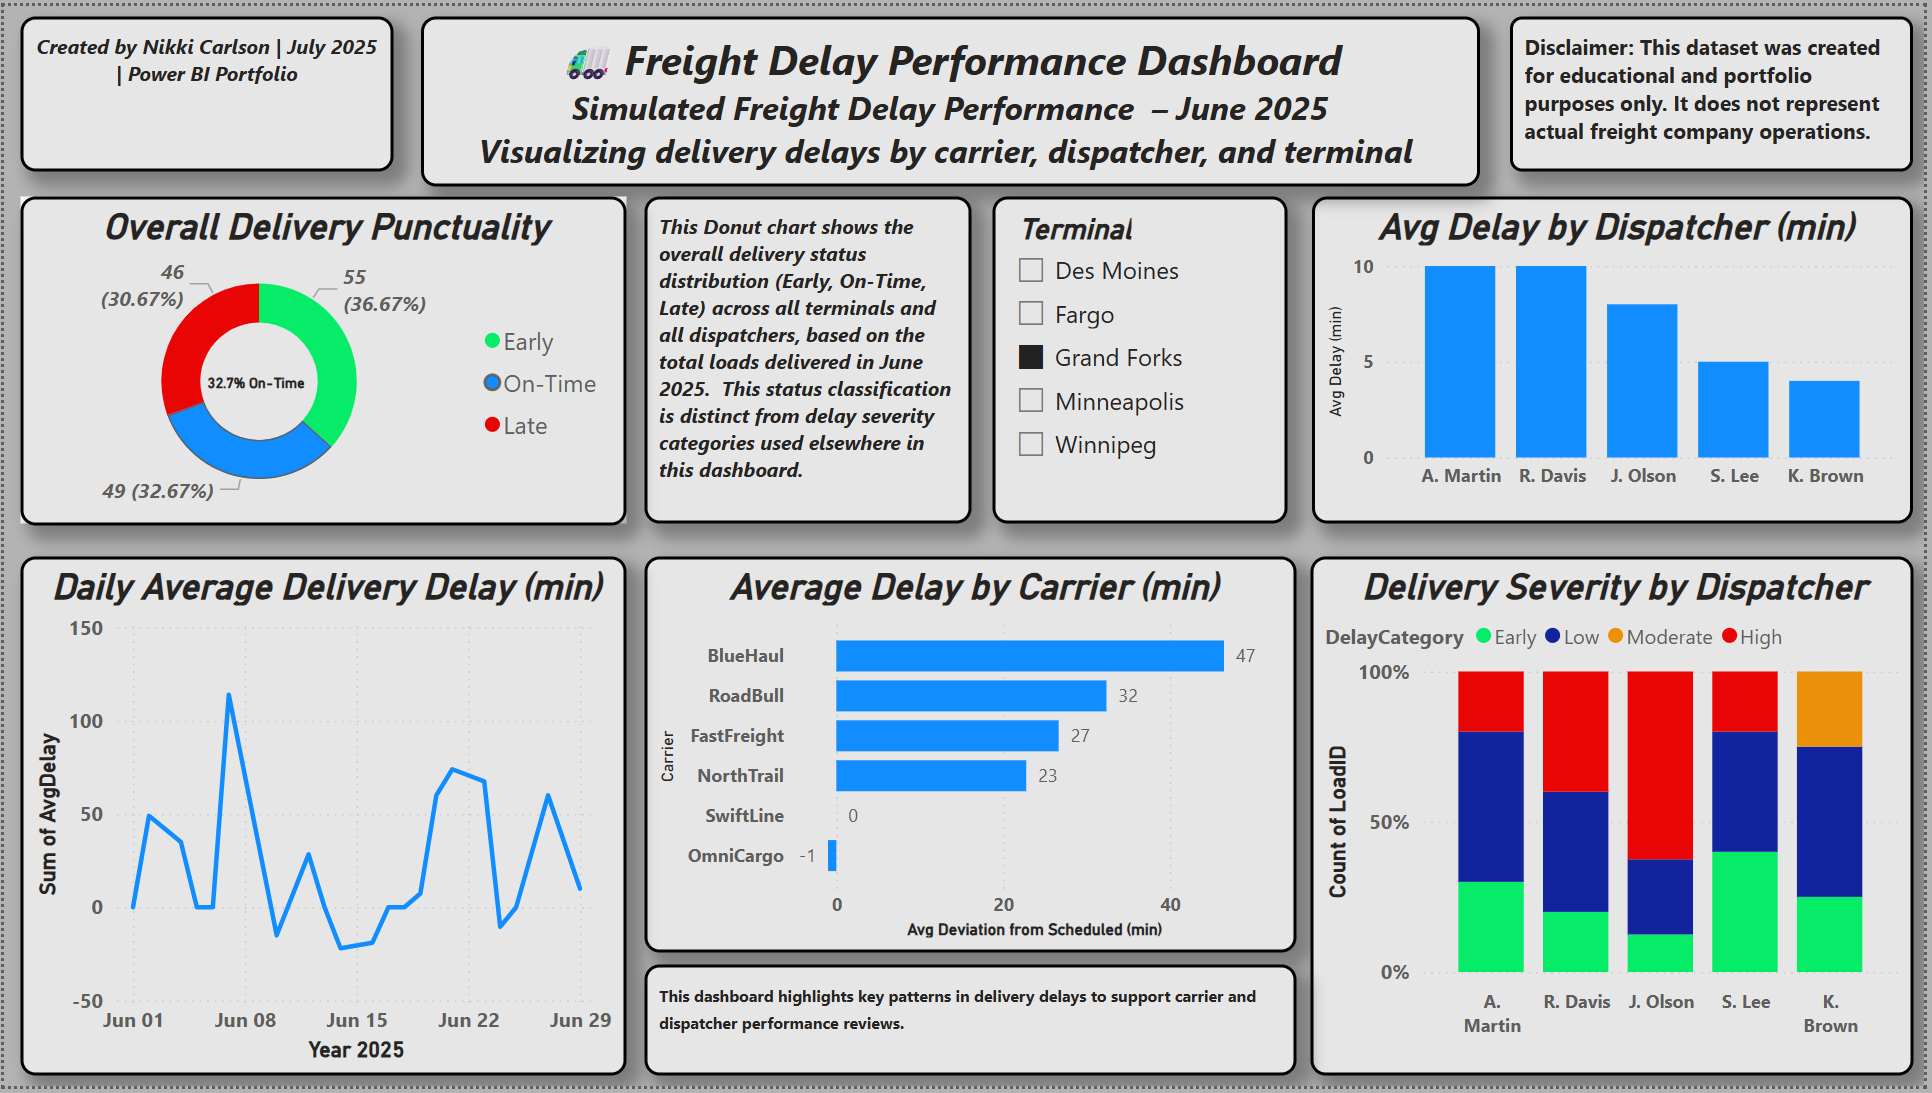

What the dashboard file says about the page in this screenshot:
{"tool":"powerbi","page":{"name":"Page 1","canvas":[1280,720],"ordinal":0},"visuals":[{"type":"clusteredBarChart","title":"Average Delay by Carrier (min)","fields":{"Y":["Sum(carrier_delay_summary_dax.AvgDelay)"],"Category":["carrier_delay_summary_dax.Carrier"]},"box":[427.1,366.7,434.6,264.4],"z":0},{"type":"clusteredColumnChart","title":"Avg Delay by Dispatcher (min)","fields":{"Category":["dispatcher_delay_summary_dax.Dispatcher"],"Y":["Sum(dispatcher_delay_summary_dax.TotalLoads)"]},"box":[871.7,126.6,401.6,218.9],"z":1000},{"type":"lineChart","title":"Daily Average Delivery Delay (min)","fields":{"Category":["daily_delay_trend_dax.DeliveryDate.Variation.Date Hierarchy.Year","daily_delay_trend_dax.DeliveryDate.Variation.Date Hierarchy.Quarter","daily_delay_trend_dax.DeliveryDate.Variation.Date Hierarchy.Month","daily_delay_trend_dax.DeliveryDate.Variation.Date Hierarchy.Day"],"Y":["Sum(daily_delay_trend_dax.AvgDelay)"]},"box":[10.6,366.7,404.1,346.1],"z":2000},{"type":"textbox","box":[278.1,6.9,705.9,112.9],"z":3000},{"type":"hundredPercentStackedColumnChart","title":"Delivery Severity by Dispatcher","fields":{"Category":["freight_delay_data.Dispatcher"],"Y":["CountNonNull(freight_delay_data.LoadID)"],"Series":["DelayCategoryLookup.DelayCategory"]},"box":[871.1,366.7,402.2,346.1],"z":4000},{"type":"textbox","box":[427.1,126.6,217.6,218.9],"z":5000},{"type":"textbox","box":[1003.9,6.9,269.4,102.9],"z":6000},{"type":"slicer","fields":{"Values":["TerminalTable.Terminal"]},"box":[659.1,126.6,197,218.9],"z":7000},{"type":"donutChart","title":"Overall Delivery Punctuality","fields":{"Category":["on_time_breakdown.Status"],"Y":["Sum(on_time_breakdown.TotalLoads)"]},"box":[10.6,126.6,404.1,218.9],"z":7500,"group":"g1"},{"type":"cardVisual","fields":{"Data":["on_time_breakdown.OnTimeLabel"]},"box":[95,215.4,146.5,61.7],"z":7750,"group":"g1"},{"type":"textbox","box":[10.6,6.9,249.4,102.9],"z":8000},{"type":"group","id":"g1","title":"Group 1","box":[10.6,126.6,404.1,218.9],"z":9000},{"type":"textbox","box":[427.1,638.5,434.6,74.2],"z":10000}]}

Visuals, with their boxes in screenshot pixels (x1, y1, x2, y2), scaled from the page's 1280x720 canvas onto the 1932x1093 screenshot:
"Average Delay by Carrier (min)" clusteredBarChart: l=645, t=557, r=1301, b=958
"Avg Delay by Dispatcher (min)" clusteredColumnChart: l=1316, t=192, r=1922, b=524
"Daily Average Delivery Delay (min)" lineChart: l=16, t=557, r=626, b=1082
textbox: l=420, t=10, r=1485, b=182
"Delivery Severity by Dispatcher" hundredPercentStackedColumnChart: l=1315, t=557, r=1922, b=1082
textbox: l=645, t=192, r=973, b=524
textbox: l=1515, t=10, r=1922, b=167
slicer - TerminalTable.Terminal: l=995, t=192, r=1292, b=524
"Overall Delivery Punctuality" donutChart: l=16, t=192, r=626, b=524
cardVisual - on_time_breakdown.OnTimeLabel: l=143, t=327, r=365, b=421
textbox: l=16, t=10, r=392, b=167
"Group 1" group: l=16, t=192, r=626, b=524
textbox: l=645, t=969, r=1301, b=1082
